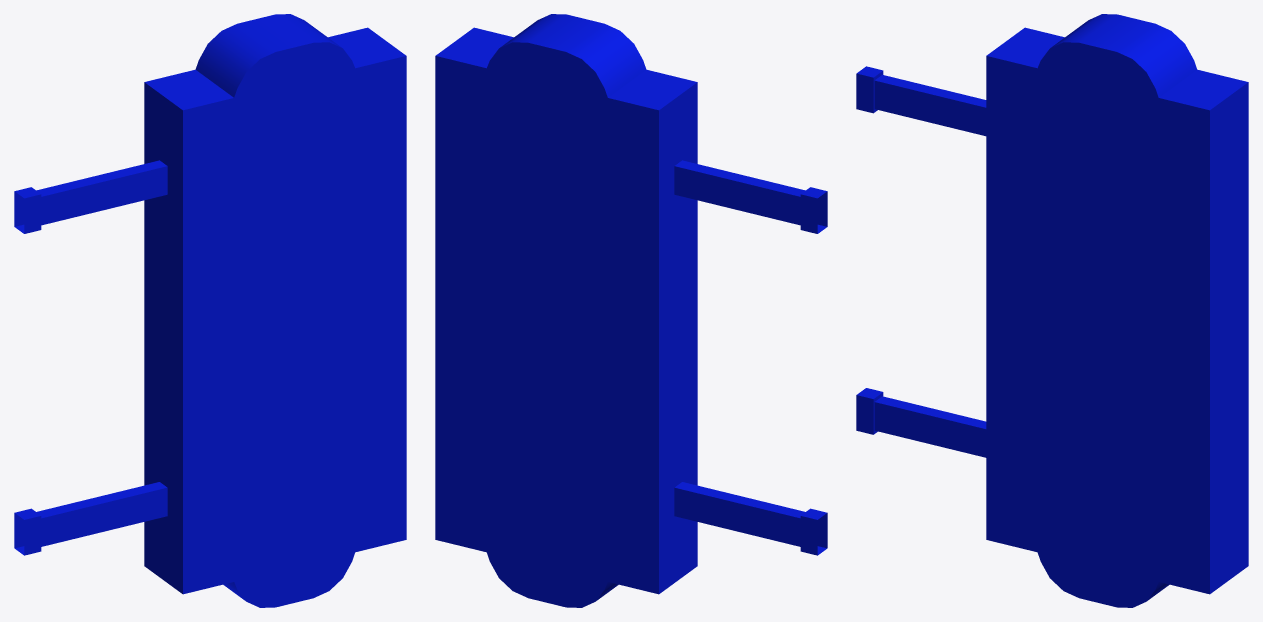
The model's file is SM_sign_bar.fbx.
3 renders of one model, left to right at view 1: azimuth 30°, elevation 25°; view 2: azimuth 150°, elevation 25°; view 3: azimuth 330°, elevation 25°, orthographic.
Parts seen in each view (by area): view 1: sign2_main_low.003, sign_neon_low.001; view 2: sign2_main_low.003; view 3: sign2_main_low.003, sign_neon_low.001.
Part boxes in pixels (x1,y1,x2,y2): sign2_main_low.003: (14,14,406,607); sign_neon_low.001: (228,105,364,316); sign2_main_low.003: (435,14,827,607); sign2_main_low.003: (856,14,1248,607); sign_neon_low.001: (1028,105,1164,316).
Size of the model in its own units: 215 by 311 by 40.58.
